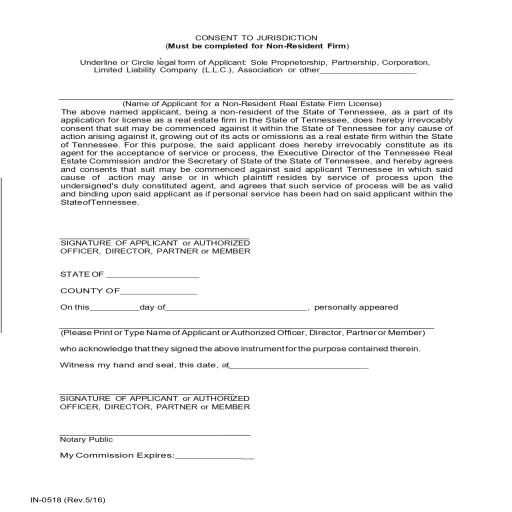Signature: (59, 240, 179, 248), (60, 395, 180, 402)
free_text: (58, 450, 175, 461), (57, 284, 120, 296), (58, 268, 106, 280), (59, 436, 116, 444)
